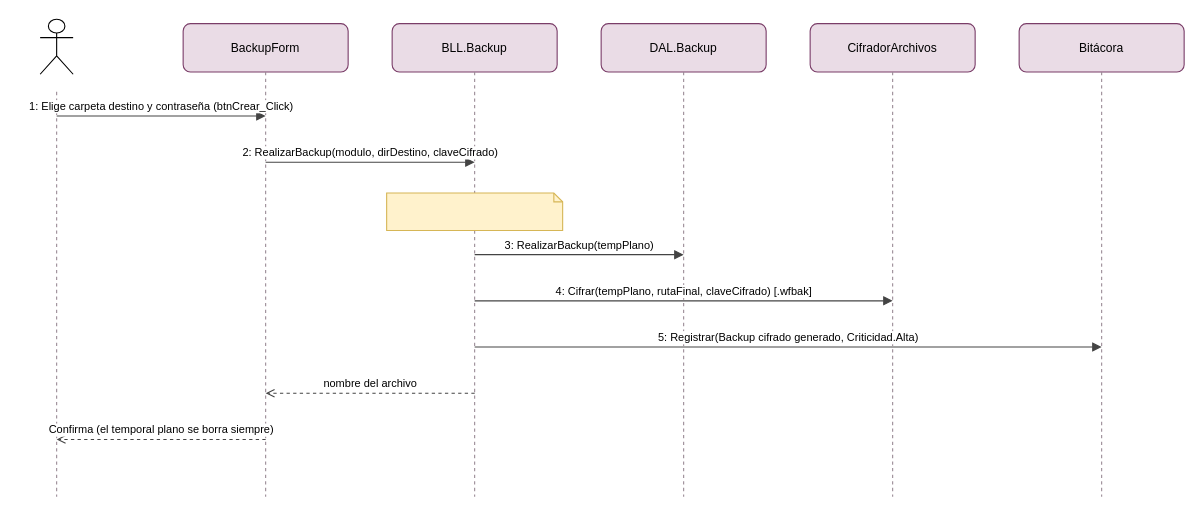
This 1203x517 diagram has some shape labels left out. Each missing label, with the centre of its shape:
Administrador: point 56,46
exige Administrador y verifica la integridad antes de respaldar: point 474,211
